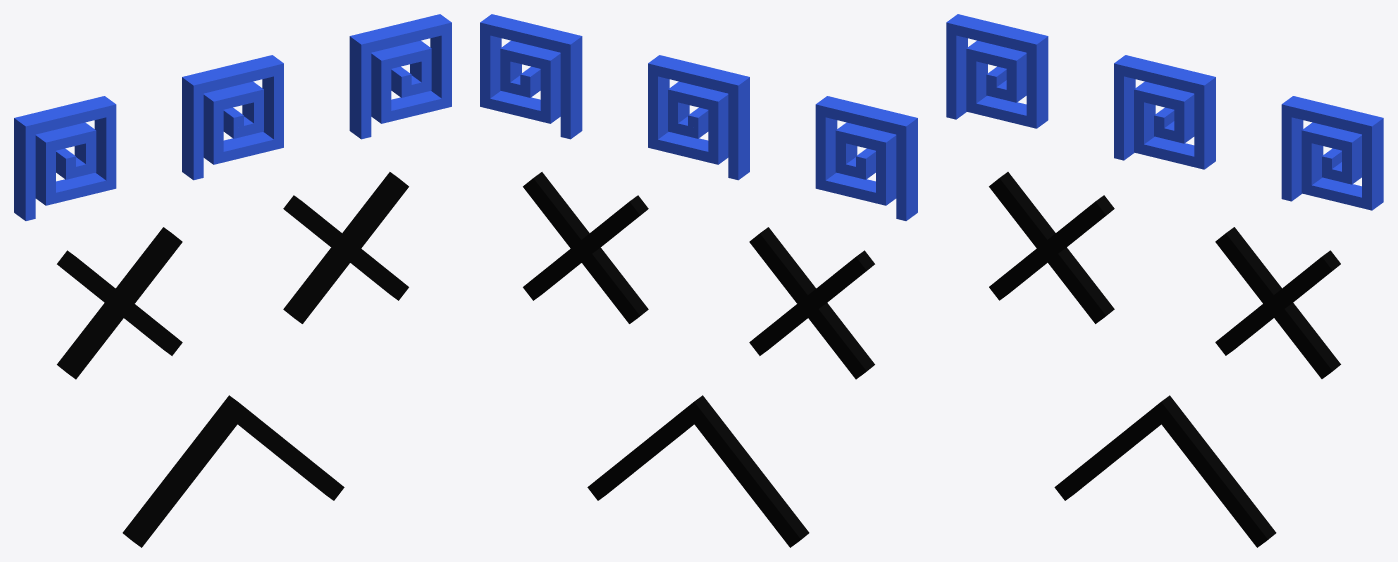
File: Qualm.fbx
The picture shows the model from 3 angles, left to right: view 1: azimuth 30°, elevation 25°; view 2: azimuth 150°, elevation 25°; view 3: azimuth 330°, elevation 25°; orthographic projection.
Parts seen in each view (by area): view 1: Cube.024, Cube.009, Cube, Cube.019, Cube.023, Cube.021; view 2: Cube.024, Cube.009, Cube, Cube.019, Cube.023, Cube.021; view 3: Cube.024, Cube.009, Cube, Cube.023, Cube.021, Cube.019.
Boxes of the visible parts, x1,y1,x2,y2 form: Cube.024: [349, 14, 451, 139]; Cube.009: [14, 96, 116, 220]; Cube: [182, 55, 283, 180]; Cube.019: [57, 227, 182, 379]; Cube.023: [122, 395, 344, 547]; Cube.021: [283, 172, 408, 323]; Cube.024: [480, 14, 582, 139]; Cube.009: [815, 96, 917, 220]; Cube: [648, 55, 749, 180]; Cube.019: [749, 227, 874, 379]; Cube.023: [587, 395, 809, 547]; Cube.021: [523, 172, 648, 323]; Cube.024: [1281, 96, 1383, 210]; Cube.009: [946, 14, 1048, 128]; Cube: [1114, 55, 1215, 169]; Cube.023: [1054, 395, 1276, 547]; Cube.021: [1215, 227, 1340, 378]; Cube.019: [989, 172, 1114, 323].
Bounding box in the file's own units: 127 × 129 × 6.
